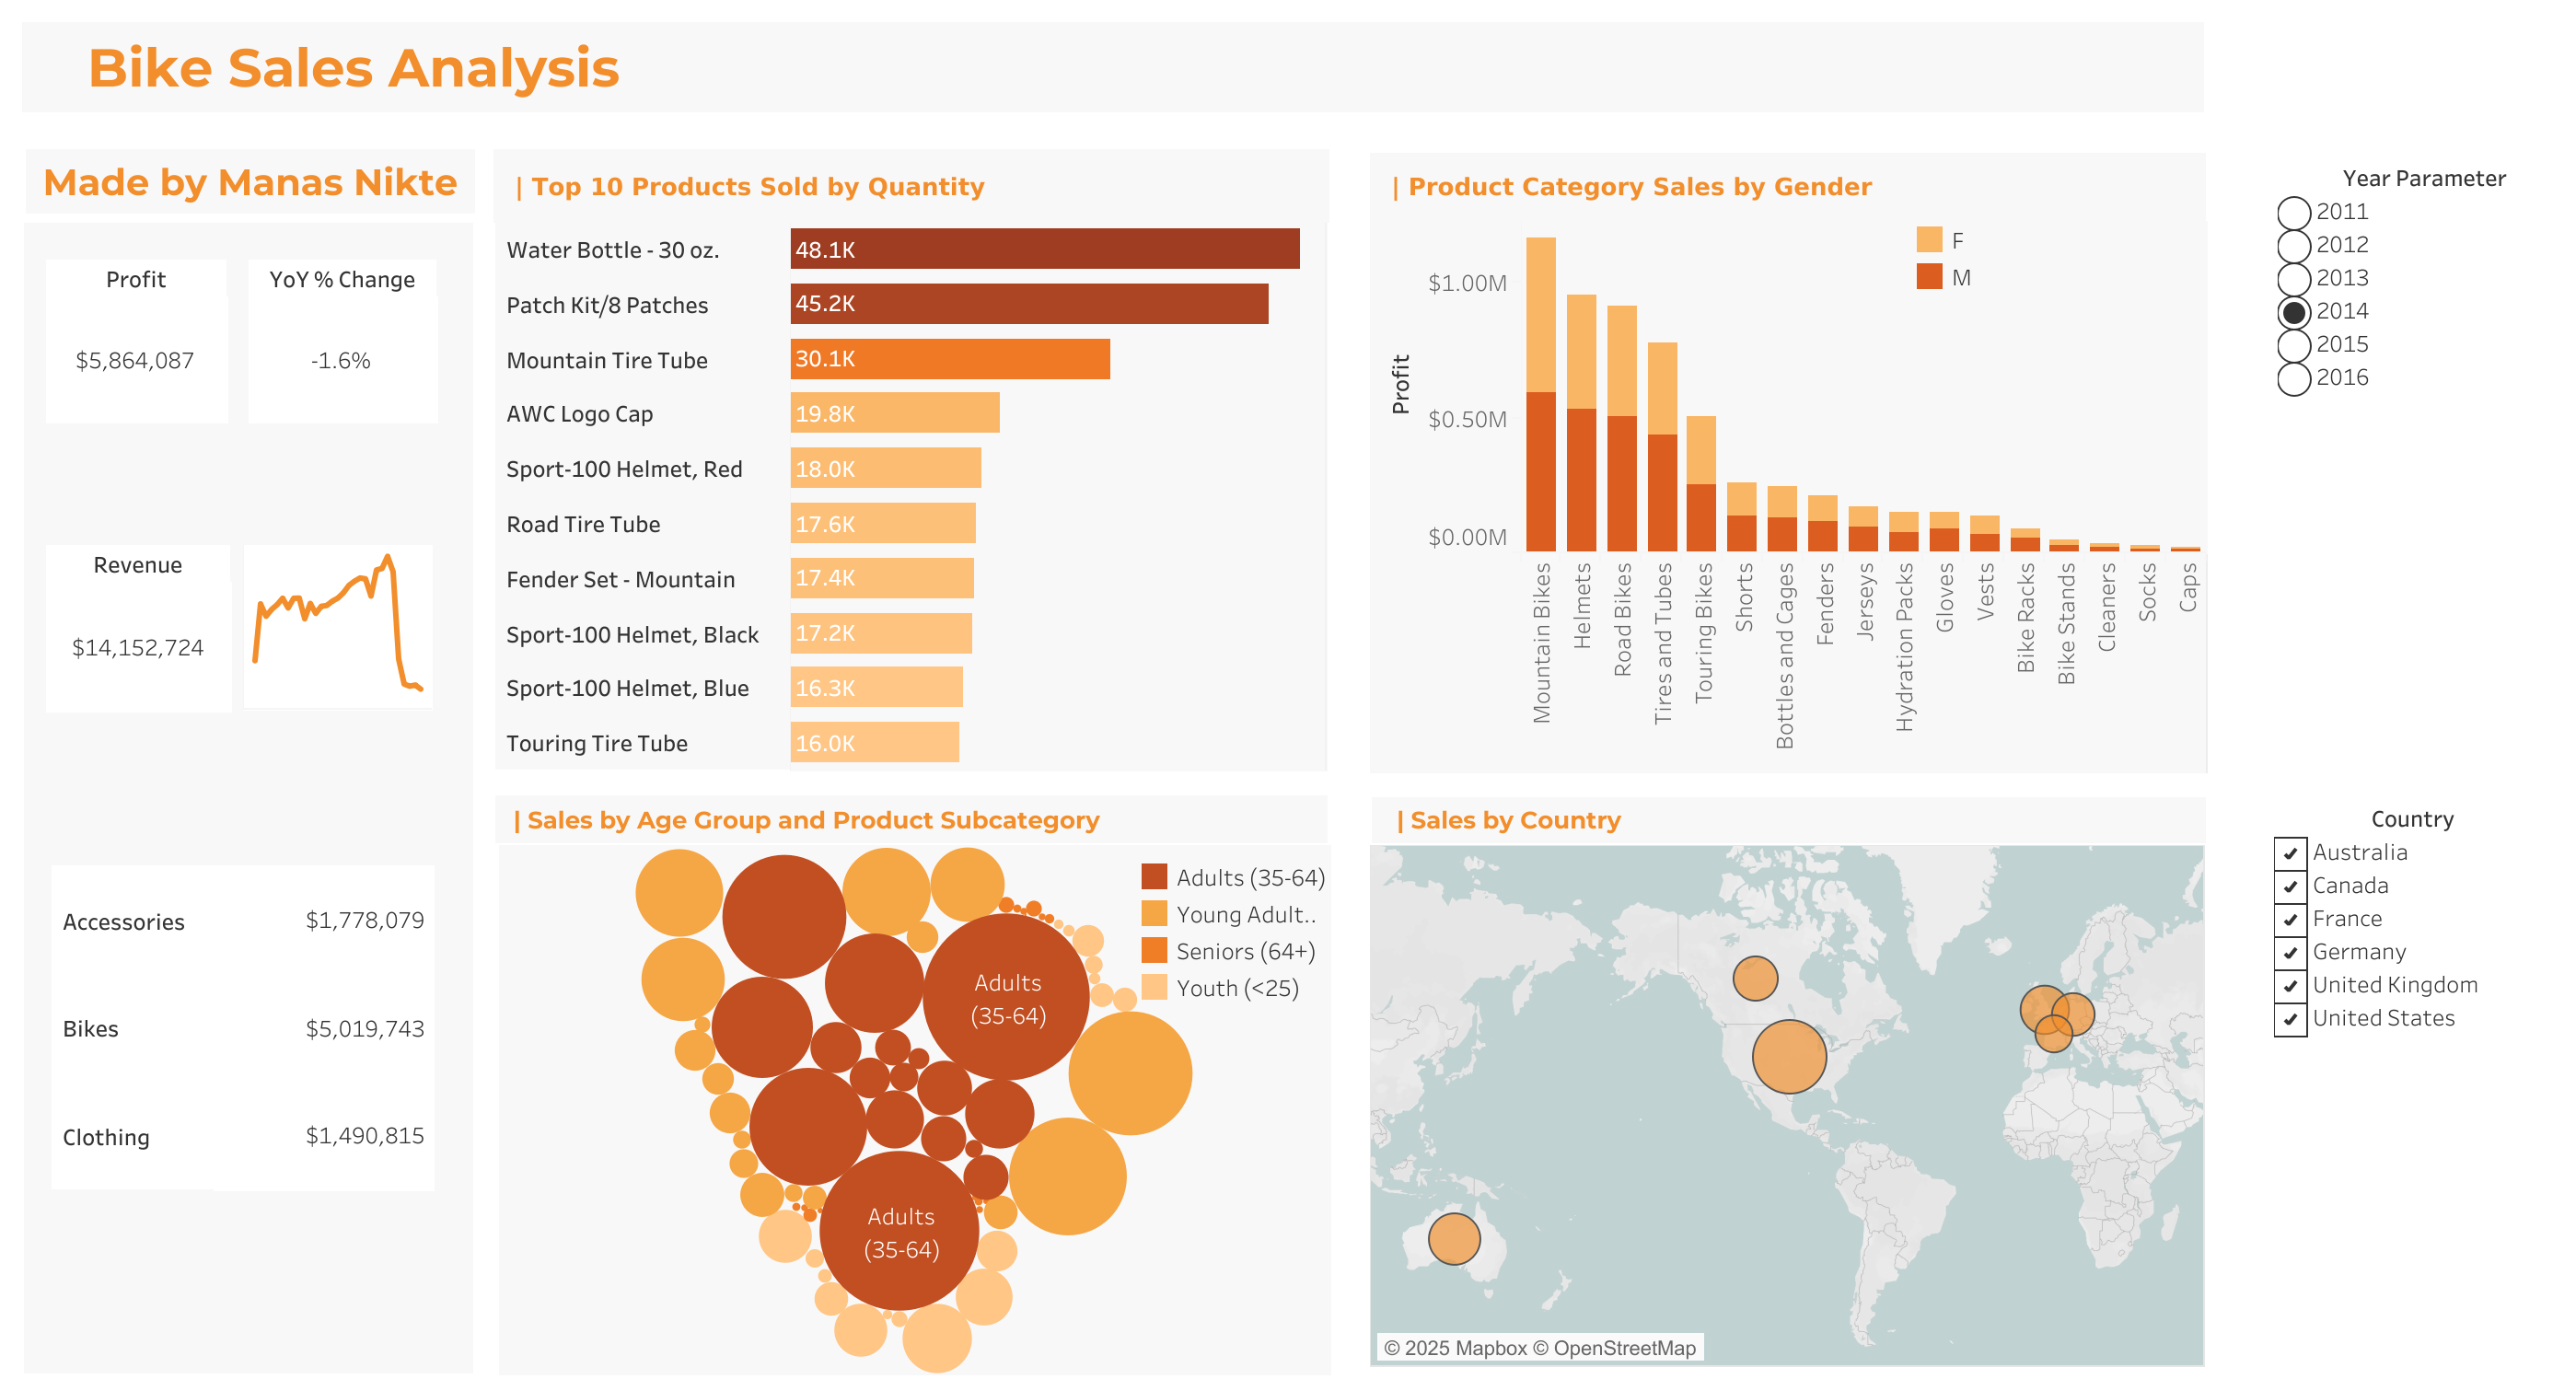

The dashboard page shown, as its layout file describes it:
{"tool":"tableau","page":{"name":"Sales Dashboard","canvas":[1400,750],"ordinal":0},"visuals":[{"type":"title","box":[8,8,1193,57]},{"type":"blank","box":[8,65,1193,677]},{"type":"text","box":[14,81,244,35]},{"type":"text","box":[268.3,81.1,454,39.5]},{"type":"text","box":[744.1,83.3,454,36.2]},{"type":"parameter","param":"[Parameters].[Parameter 1]","box":[1237,86,160,151]},{"type":"worksheet","title":"Top 10 Products","mark":"Bar","rows":["Product"],"box":[269.5,119.5,451.8,299.3]},{"type":"worksheet","title":"Sub Category Bar Chart","mark":"Automatic","rows":["Profit"],"cols":["Sub_Category"],"box":[744.1,119.5,455.2,300.4]},{"type":"legend","title":"Sub Category Bar Chart","param":"[federated.1fptsch0y58y2x1996qwh0e8it65].[none:Customer_Gender:nk]","box":[1037.7,119.5,159.4,63.6]},{"type":"worksheet","title":"Profit Card","mark":"Automatic","cols":["Calculation_551690969731842049"],"box":[25.2,141.4,97.5,87.7]},{"type":"worksheet","title":"YoY % Change","mark":"Automatic","cols":["Calculation_551690969748049931"],"box":[135.3,141.4,102,87.7]},{"type":"worksheet","title":"Revenue Card","mark":"Automatic","cols":["Calculation_551690969737252874"],"box":[25.2,296.1,99.8,89.9]},{"type":"worksheet","title":"Revenue Line Chart","mark":"Automatic","rows":["Revenue"],"cols":["Date"],"box":[131.9,296.1,102,88.8]},{"type":"text","box":[269.5,432,451.8,26.3]},{"type":"text","box":[745.3,433.1,452.9,25.2]},{"type":"filter","title":"Age Group Bubble Chart","param":"[federated.1fptsch0y58y2x1996qwh0e8it65].[none:Country:nk]","box":[1235,434,151,173]},{"type":"worksheet","title":"Age Group Bubble Chart","mark":"Circle","box":[270.6,459.4,451.8,286.2]},{"type":"worksheet","title":"Map","mark":"Automatic","box":[744.1,459.4,454,284]},{"type":"legend","title":"Age Group Bubble Chart","param":"[federated.1fptsch0y58y2x1996qwh0e8it65].[none:Age_Group:nk]","box":[616.9,466,104.3,87.7]},{"type":"worksheet","title":"Cost Cards","mark":"Automatic","rows":["Product_Category"],"box":[27.5,470.4,207.5,175.4]}]}

Visuals, with their boxes in screenshot pixels (x1, y1, x2, y2), scaled from the page's 1400x750 canvas onto the 2576x1379 screenshot:
title: pyautogui.locateOnScreen(15, 15, 2210, 120)
blank: pyautogui.locateOnScreen(15, 120, 2210, 1364)
text: pyautogui.locateOnScreen(26, 149, 475, 214)
text: pyautogui.locateOnScreen(493, 149, 1329, 222)
text: pyautogui.locateOnScreen(1369, 153, 2204, 220)
parameter: pyautogui.locateOnScreen(2276, 158, 2570, 435)
"Top 10 Products" worksheet (Bar marks): pyautogui.locateOnScreen(496, 220, 1328, 770)
"Sub Category Bar Chart" worksheet: pyautogui.locateOnScreen(1369, 220, 2207, 772)
"Sub Category Bar Chart" legend: pyautogui.locateOnScreen(1909, 220, 2202, 337)
"Profit Card" worksheet: pyautogui.locateOnScreen(46, 260, 226, 422)
"YoY % Change" worksheet: pyautogui.locateOnScreen(249, 260, 436, 422)
"Revenue Card" worksheet: pyautogui.locateOnScreen(46, 544, 230, 710)
"Revenue Line Chart" worksheet: pyautogui.locateOnScreen(243, 544, 430, 708)
text: pyautogui.locateOnScreen(496, 794, 1328, 842)
text: pyautogui.locateOnScreen(1372, 796, 2205, 842)
"Age Group Bubble Chart" filter: pyautogui.locateOnScreen(2272, 798, 2550, 1116)
"Age Group Bubble Chart" worksheet (Circle marks): pyautogui.locateOnScreen(498, 845, 1329, 1371)
"Map" worksheet: pyautogui.locateOnScreen(1369, 845, 2204, 1367)
"Age Group Bubble Chart" legend: pyautogui.locateOnScreen(1135, 857, 1327, 1018)
"Cost Cards" worksheet: pyautogui.locateOnScreen(51, 865, 433, 1188)
